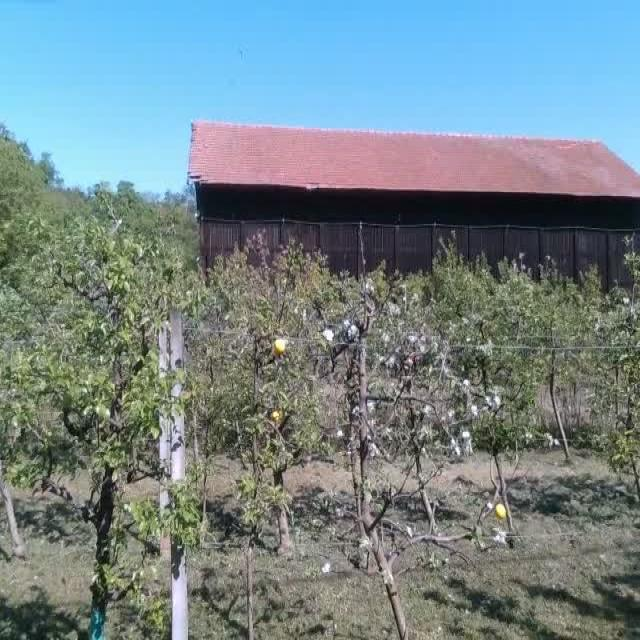yellow: (494, 501, 508, 521), (270, 408, 283, 423), (274, 338, 284, 354)
